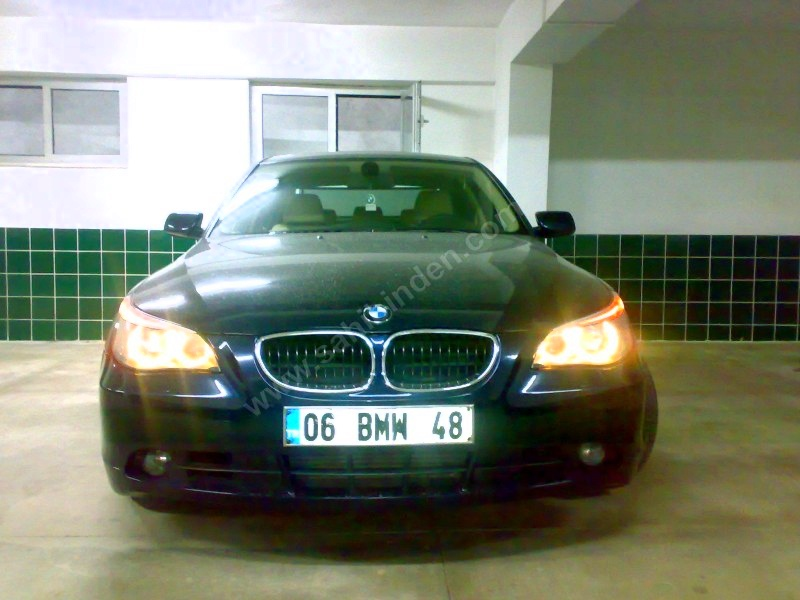plaka: (303, 401, 473, 447)
